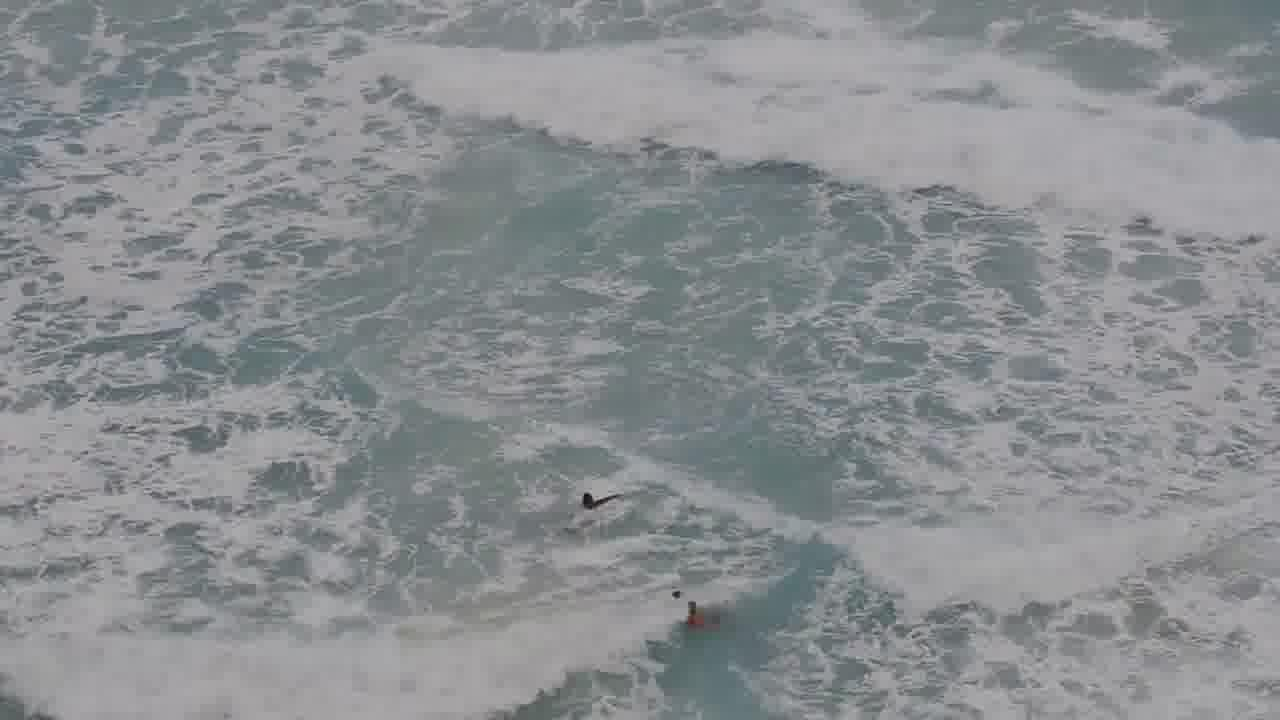swimmer: (564, 478, 628, 524), (678, 591, 728, 640)
